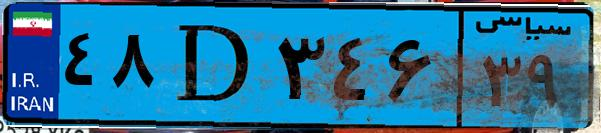3: (270, 28, 330, 110), (475, 38, 525, 113)
4: (330, 28, 385, 110), (57, 26, 110, 100)
6: (385, 28, 445, 110)
8: (110, 28, 158, 98)
9: (525, 38, 570, 115)
D: (158, 12, 270, 120)
